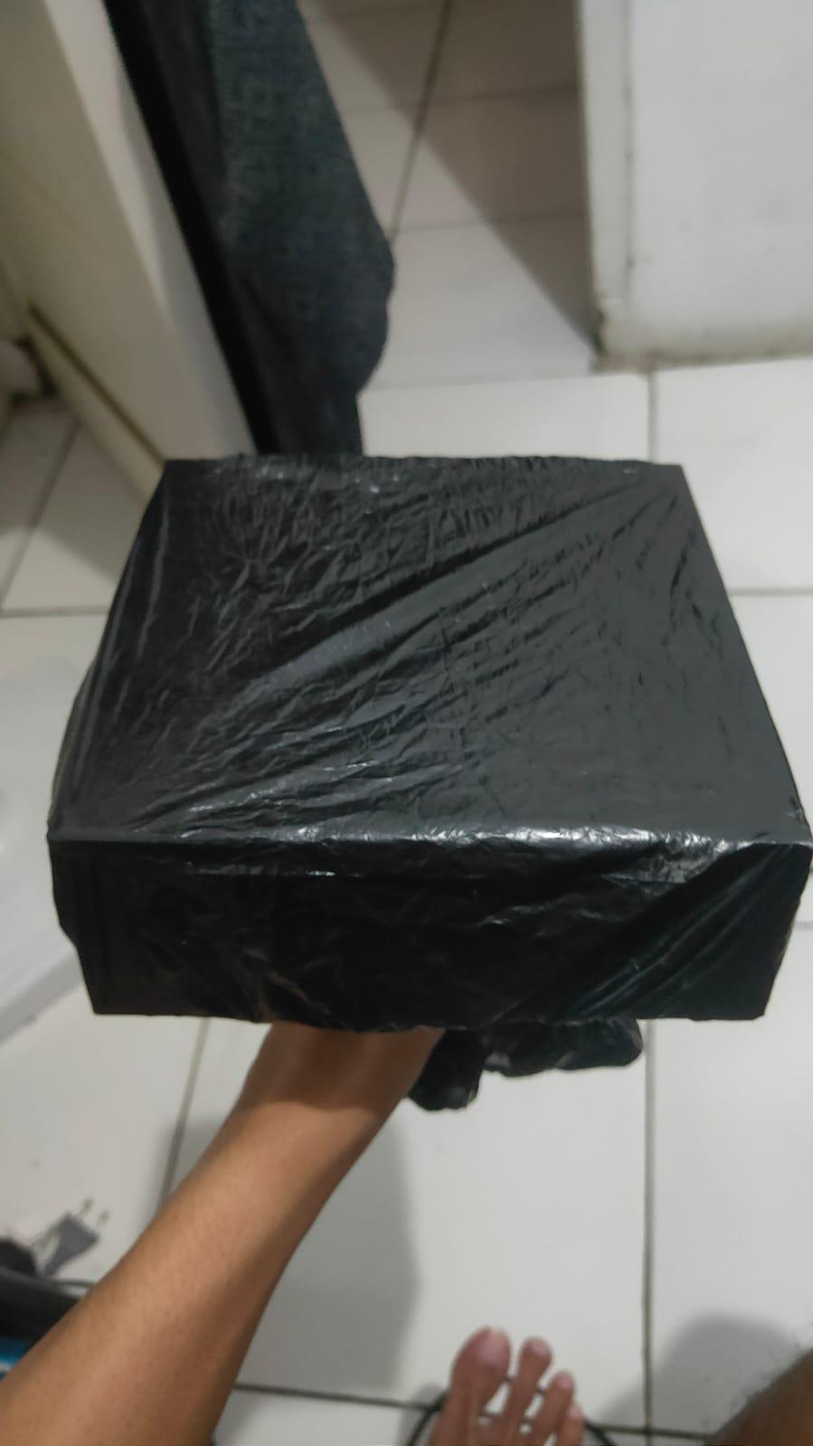undamaged: (29, 450, 811, 1026)
